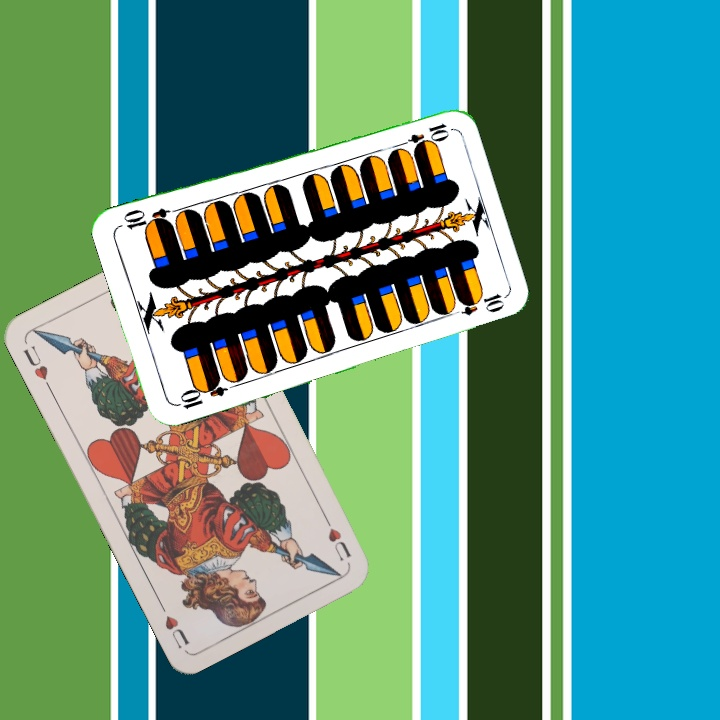E10: (171, 375, 229, 412), (393, 119, 452, 152)
HU: (319, 510, 354, 564), (18, 341, 54, 393)
